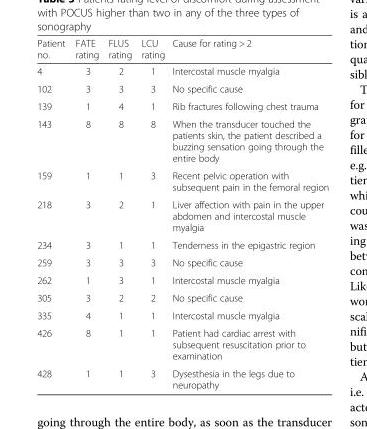table: (36, 37, 328, 390)
table column: (167, 37, 328, 390), (36, 37, 69, 390), (69, 37, 102, 390), (102, 37, 135, 390), (135, 37, 167, 390)
table column header: (36, 37, 328, 62)
table row: (36, 114, 328, 166), (36, 323, 328, 364), (36, 195, 328, 235), (36, 166, 328, 195), (36, 364, 328, 390), (36, 37, 328, 62), (36, 79, 328, 97), (36, 235, 328, 253), (36, 253, 328, 271), (36, 288, 328, 306), (36, 62, 328, 79), (36, 97, 328, 114), (36, 271, 328, 288), (36, 306, 328, 323)
